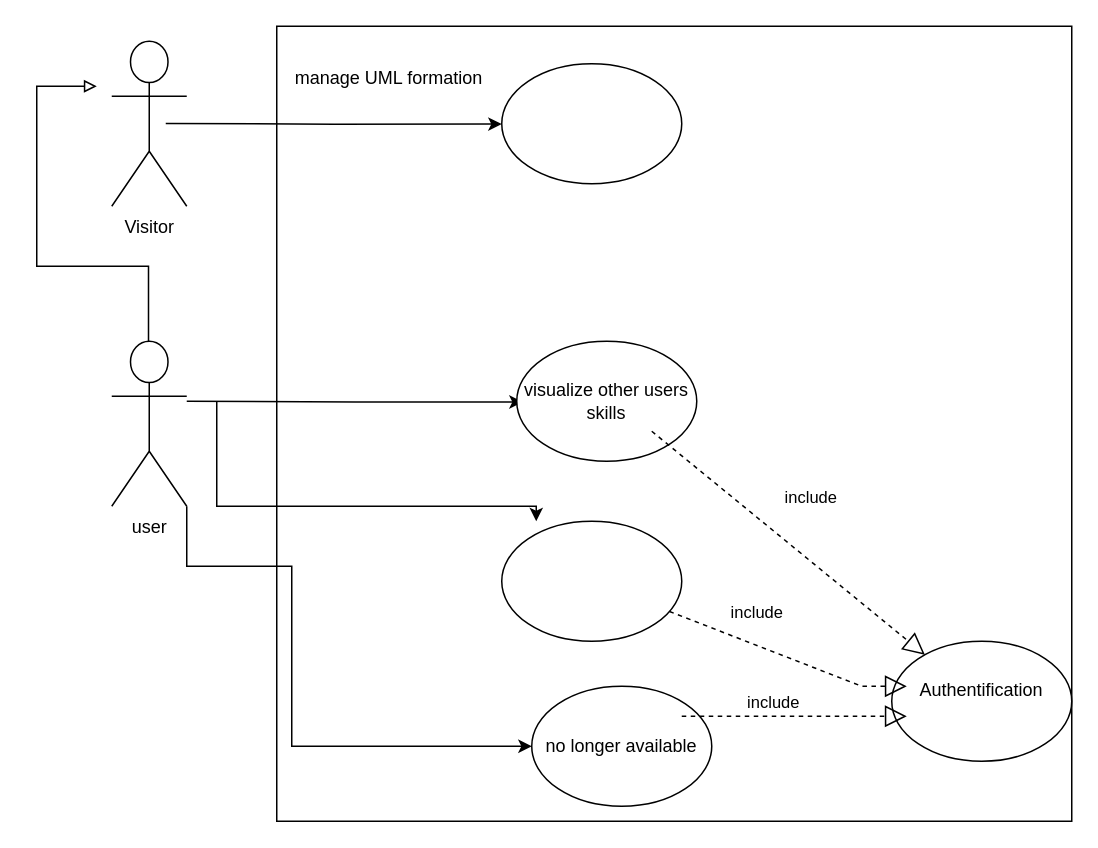
This 1098x848 diagram has some shape labels left out. The box of each missing label's shape, as (x1, y1, x2, y2) in pixels:
include one's skills: (500, 520, 682, 641)
visualize skills: (500, 62, 682, 184)
